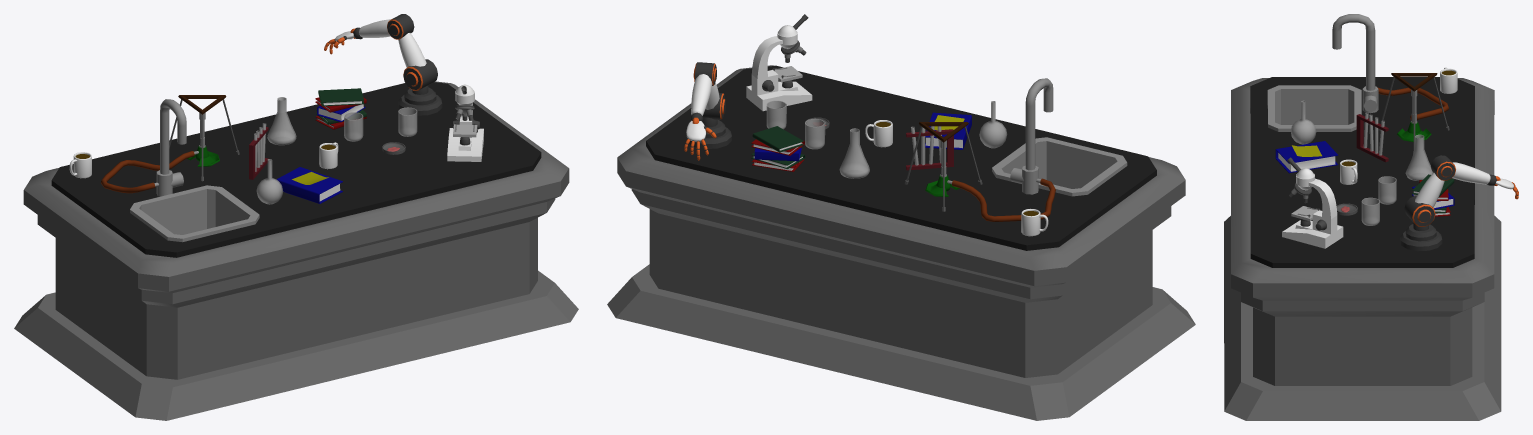
Rendered from WORKBENCH_PREFAB (3).fbx.
The picture shows the model from 3 angles, left to right: view 1: azimuth 30°, elevation 25°; view 2: azimuth 150°, elevation 25°; view 3: azimuth 270°, elevation 25°; orthographic projection. The views are drawn at different scales.
Parts seen in each view (by area): view 1: Bench, Book_Cover (×2), Tap, base, tube_connection, Beacon_Glass_Long, Base1, Shoulder, Round_Vial, Bicep, Cup1, Cup (+1 smaller); view 2: Bench, Tap, polySurface21, Base1, Beacon_Glass_Long, tube_connection, Book_Cover, Round_Vial, base, forearm, Stand, Cup (+1 smaller); view 3: Bench, Tap, polySurface21, base, Base1, Mug1 (×2), Book_Cover, Beacon_Glass_Long, Shoulder, Round_Vial, tube_connection, Bicep (+9 smaller).
Part boxes in pixels (bbox=[...]): Bench: bbox=[14, 81, 578, 420]; Book_Cover (×2): bbox=[277, 88, 364, 203]; Tap: bbox=[156, 99, 186, 196]; base: bbox=[398, 86, 442, 115]; tube_connection: bbox=[101, 151, 194, 193]; Beacon_Glass_Long: bbox=[267, 97, 296, 145]; Base1: bbox=[447, 128, 483, 161]; Shoulder: bbox=[403, 59, 437, 90]; Round_Vial: bbox=[256, 159, 283, 204]; Bicep: bbox=[398, 33, 426, 67]; Cup1: bbox=[398, 107, 417, 136]; Cup: bbox=[344, 112, 363, 141]; Bench: bbox=[607, 65, 1195, 420]; Tap: bbox=[1022, 78, 1053, 194]; polySurface21: bbox=[751, 36, 798, 101]; Base1: bbox=[746, 81, 812, 111]; Beacon_Glass_Long: bbox=[839, 128, 869, 178]; tube_connection: bbox=[952, 178, 1055, 221]; Book_Cover: bbox=[752, 126, 803, 152]; Round_Vial: bbox=[979, 101, 1007, 148]; base: bbox=[686, 117, 731, 148]; forearm: bbox=[691, 74, 712, 115]; Stand: bbox=[906, 129, 953, 170]; Cup: bbox=[805, 118, 825, 149]; Bench: bbox=[1224, 77, 1501, 420]; Tap: bbox=[1332, 14, 1378, 113]; polySurface21: bbox=[1295, 178, 1337, 240]; base: bbox=[1400, 223, 1442, 251]; Base1: bbox=[1282, 220, 1343, 248]; Mug1 (×2): bbox=[1340, 67, 1457, 184]; Book_Cover: bbox=[1275, 141, 1338, 173]; Beacon_Glass_Long: bbox=[1405, 134, 1433, 180]; Shoulder: bbox=[1404, 195, 1435, 226]; Round_Vial: bbox=[1291, 100, 1316, 144]; tube_connection: bbox=[1377, 87, 1448, 120]; Bicep: bbox=[1415, 172, 1444, 207].
Bounding box in the file's own units: 315 × 171 × 189.
